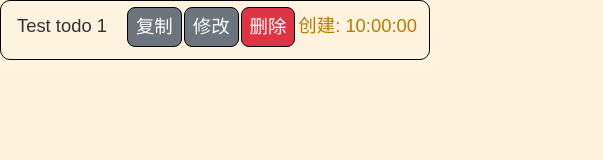
TodoItem Component › cancels editing on Escape key
The image size is (603, 160).
Click the text "Test todo 1" at (62, 26), box left=17, top=13, right=107, bottom=39
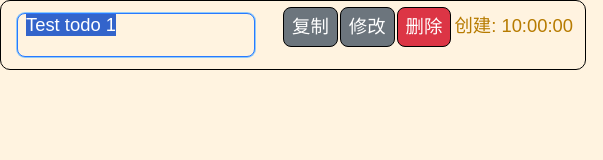
Replace the text in the text box showing "Test todo 1" with "Changed content" at (136, 35), box left=17, top=13, right=255, bottom=57
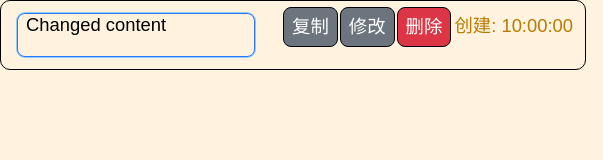
Press Escape
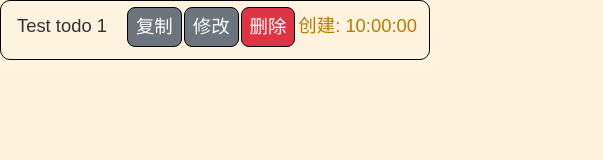
Check: the text "Test todo 1" is shown, box left=17, top=13, right=107, bottom=39
